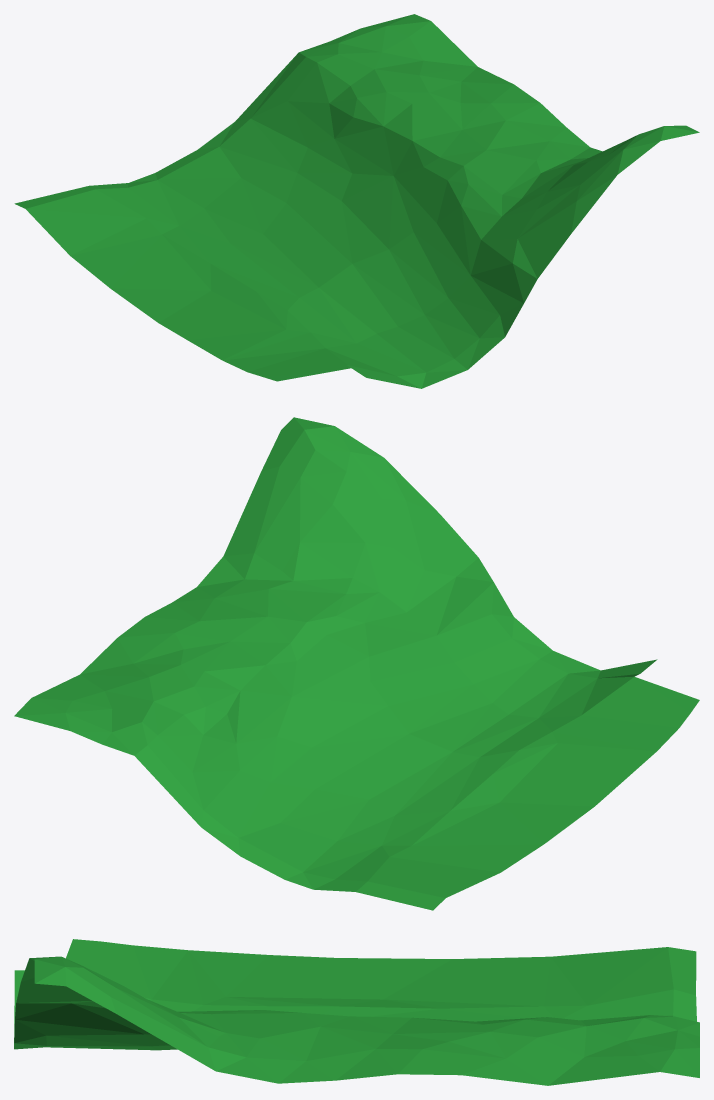
File: Field_L7.fbx
3 views of the same model, one above another, from view 1: azimuth 30°, elevation 25°; view 2: azimuth 150°, elevation 25°; view 3: azimuth 270°, elevation 25° (orthographic). The views are drawn at different scales.
Visible parts, largest first — view 1: L7; view 2: L7; view 3: L7.
Part boxes in pixels (box(x1,y1,x2,y2)): L7: box(14, 14, 699, 388); L7: box(14, 417, 699, 910); L7: box(14, 939, 699, 1085).
Size of the model in its own units: 2568 by 1093 by 3063.
